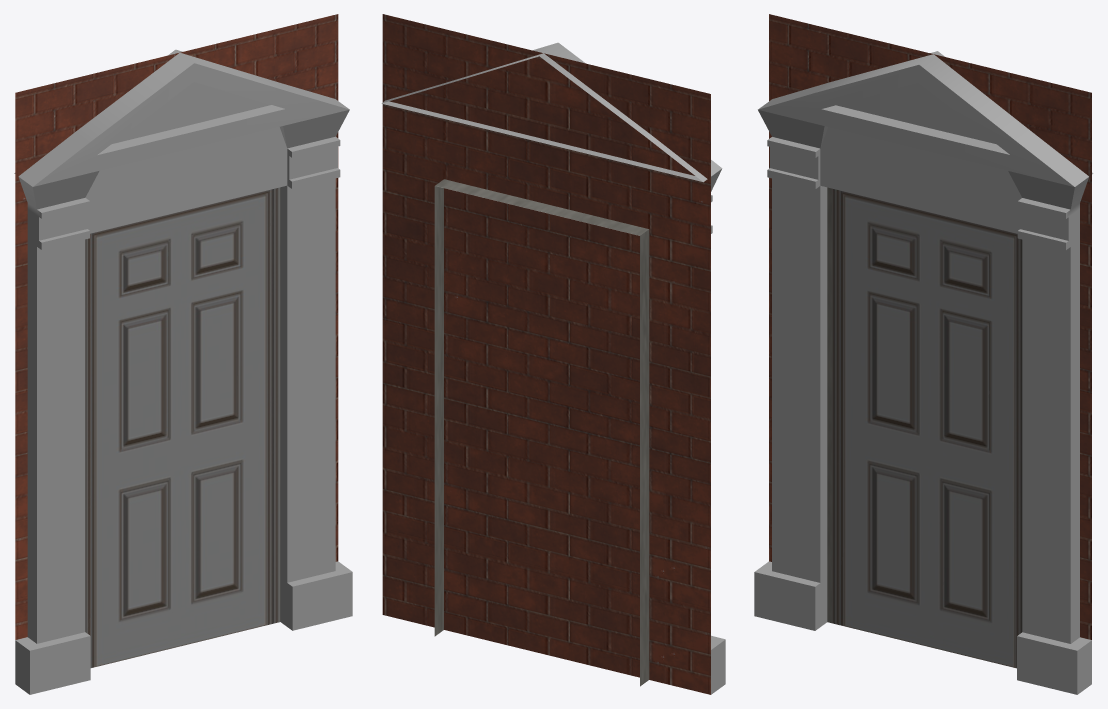
The model's file is Brick_Door.fbx.
3 views of the same model, side by side, from view 1: azimuth 30°, elevation 25°; view 2: azimuth 150°, elevation 25°; view 3: azimuth 330°, elevation 25° (orthographic).
Parts seen in each view (by area): view 1: Brick_Door; view 2: Brick_Door; view 3: Brick_Door.
Part boxes in pixels (left/top/right/bottom): Brick_Door: left=14, top=14, right=352, bottom=694; Brick_Door: left=381, top=14, right=725, bottom=694; Brick_Door: left=754, top=14, right=1093, bottom=694.
Size of the model in its own units: 2 by 3.5 by 0.2554.
